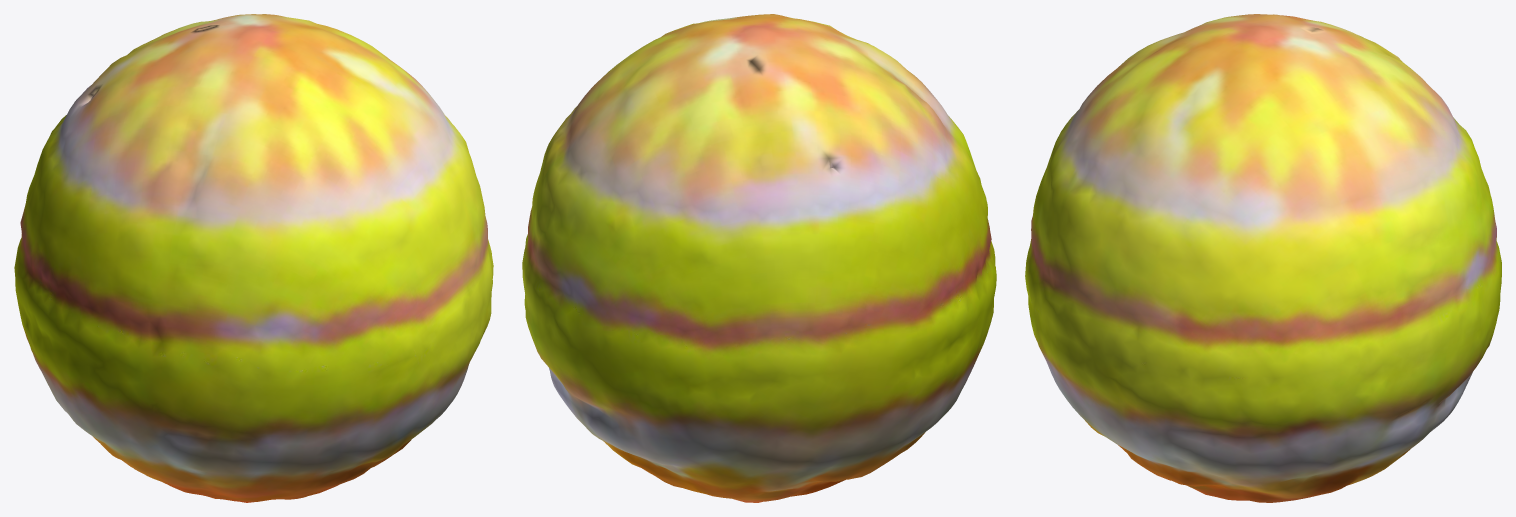
The model's file is sourball.fbx.
3 renders of one model, left to right at view 1: azimuth 30°, elevation 25°; view 2: azimuth 150°, elevation 25°; view 3: azimuth 270°, elevation 25°, orthographic.
Visible parts, largest first — view 1: Mesh1; view 2: Mesh1; view 3: Mesh1.
Part boxes in pixels (x1,y1,x2,y2): Mesh1: [14, 14, 493, 502]; Mesh1: [522, 14, 996, 502]; Mesh1: [1025, 14, 1501, 502].
Size of the model in its own units: 115 by 120 by 115.
1 material, 1 textured.
